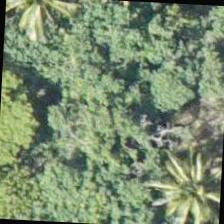Kelapa_Sawit: (144, 142, 222, 223)
